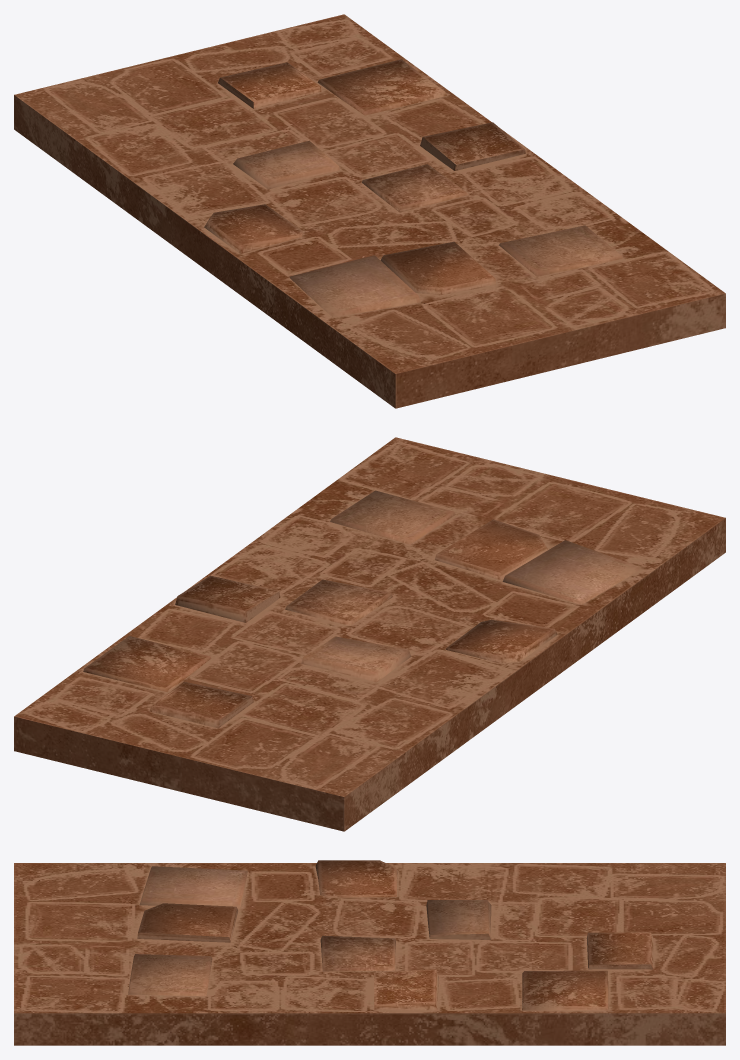
The model's file is floor_400_200_01.glb.
3 renders of one model, top to bottom at view 1: azimuth 30°, elevation 25°; view 2: azimuth 150°, elevation 25°; view 3: azimuth 270°, elevation 25°, orthographic. The views are drawn at different scales.
Visible parts, largest first — view 1: floor_400_200_01; view 2: floor_400_200_01; view 3: floor_400_200_01.
Part boxes in pixels (x1,y1,x2,y2): floor_400_200_01: (14, 14, 725, 408); floor_400_200_01: (14, 437, 725, 831); floor_400_200_01: (14, 860, 725, 1045).
Size of the model in its own units: 2 by 0.2565 by 4.
Materials: 1 (1 with a texture image).
